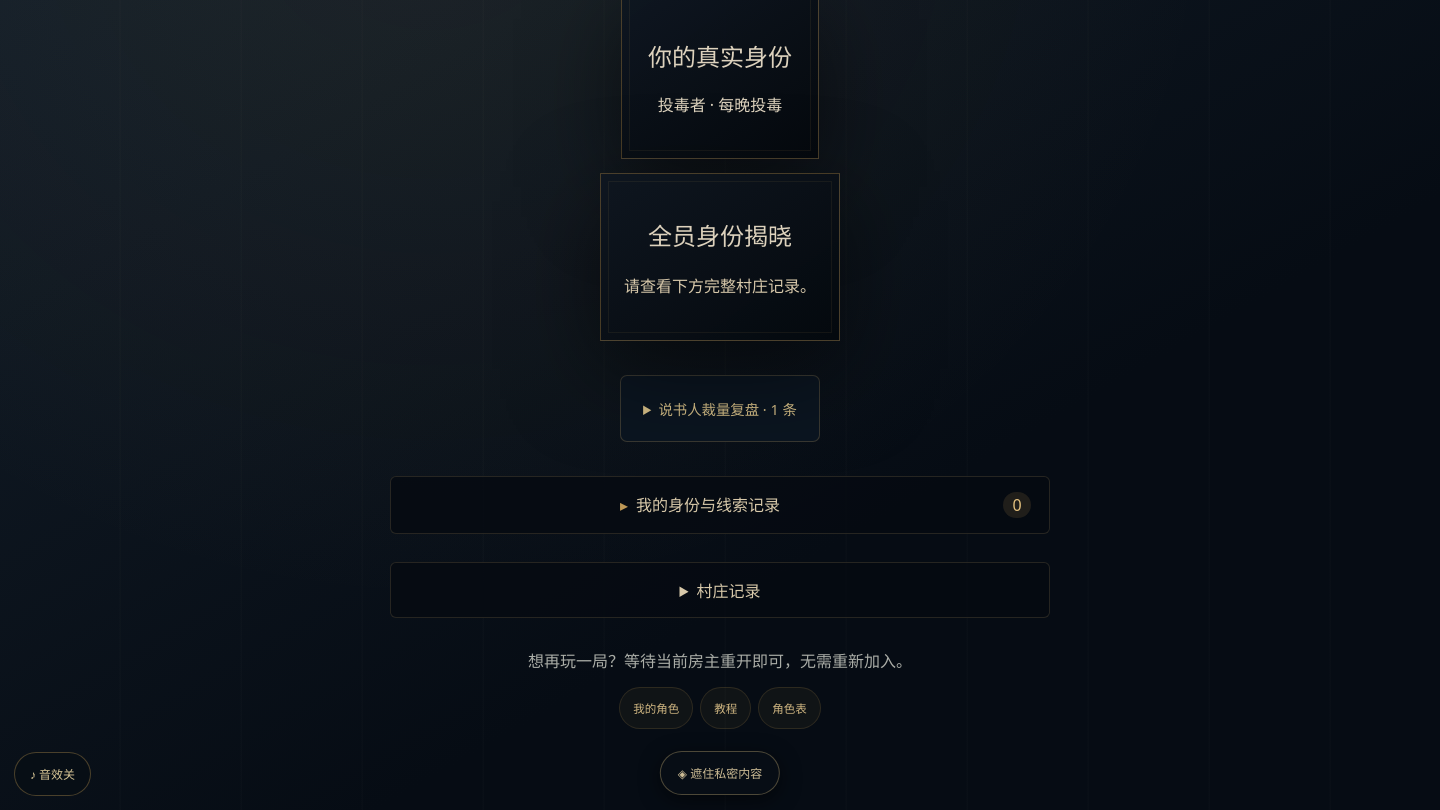
Test case: storyteller decisions remain hidden until the final public presentation ends
(page scrolled)
Click the heading "说书人裁量复盘 · 1 条" at (720, 408), box [643, 398, 797, 419]
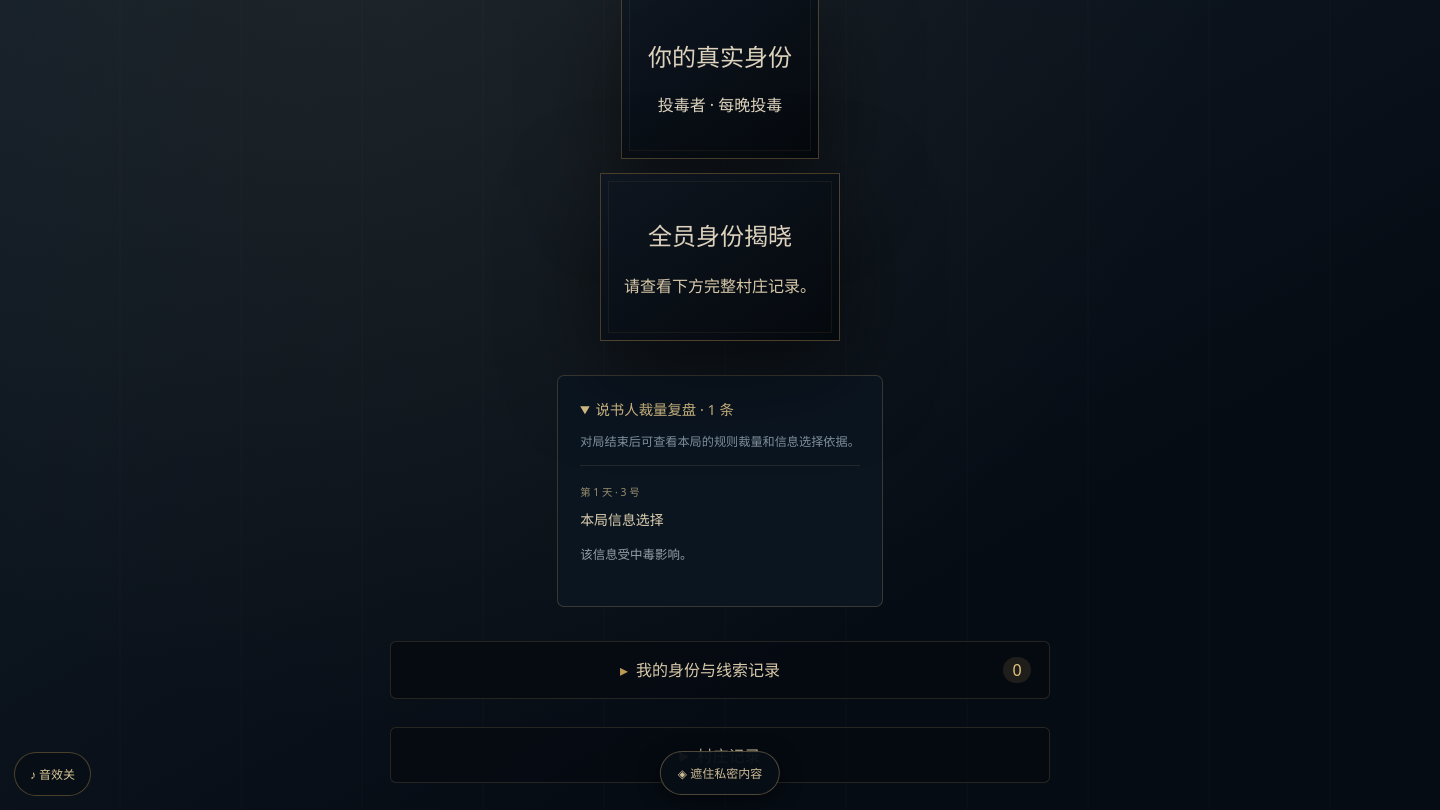
expect the text "该信息受中毒影响。" is shown: met, box [580, 546, 692, 563]
